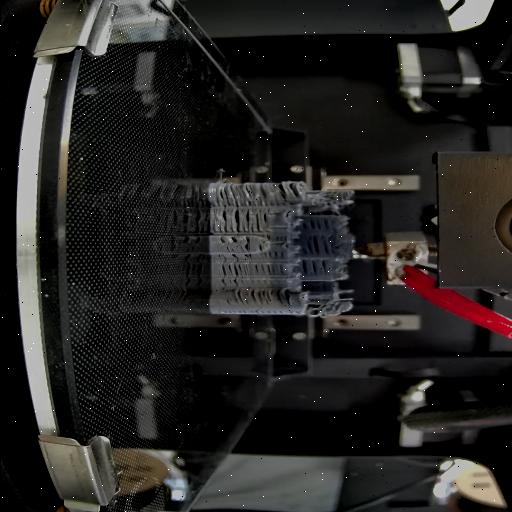cracks: (214, 183, 268, 207), (231, 288, 292, 306), (210, 208, 252, 233), (300, 236, 330, 256), (277, 182, 306, 202), (220, 265, 246, 287), (302, 219, 334, 233), (302, 260, 326, 276), (217, 253, 255, 262), (255, 213, 272, 231), (254, 264, 284, 274), (264, 234, 290, 244), (241, 238, 253, 252), (216, 236, 236, 244), (264, 252, 283, 260), (256, 244, 262, 252)
